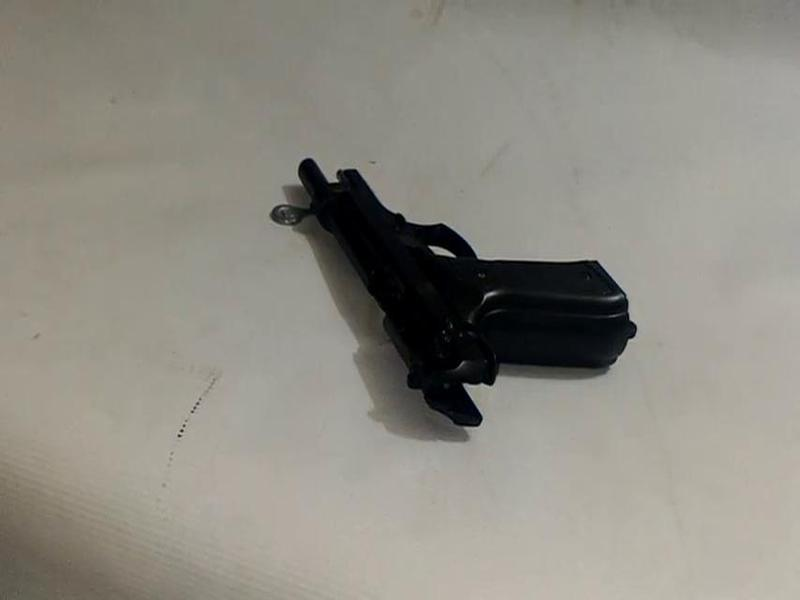Pistola: (273, 118, 674, 469)
